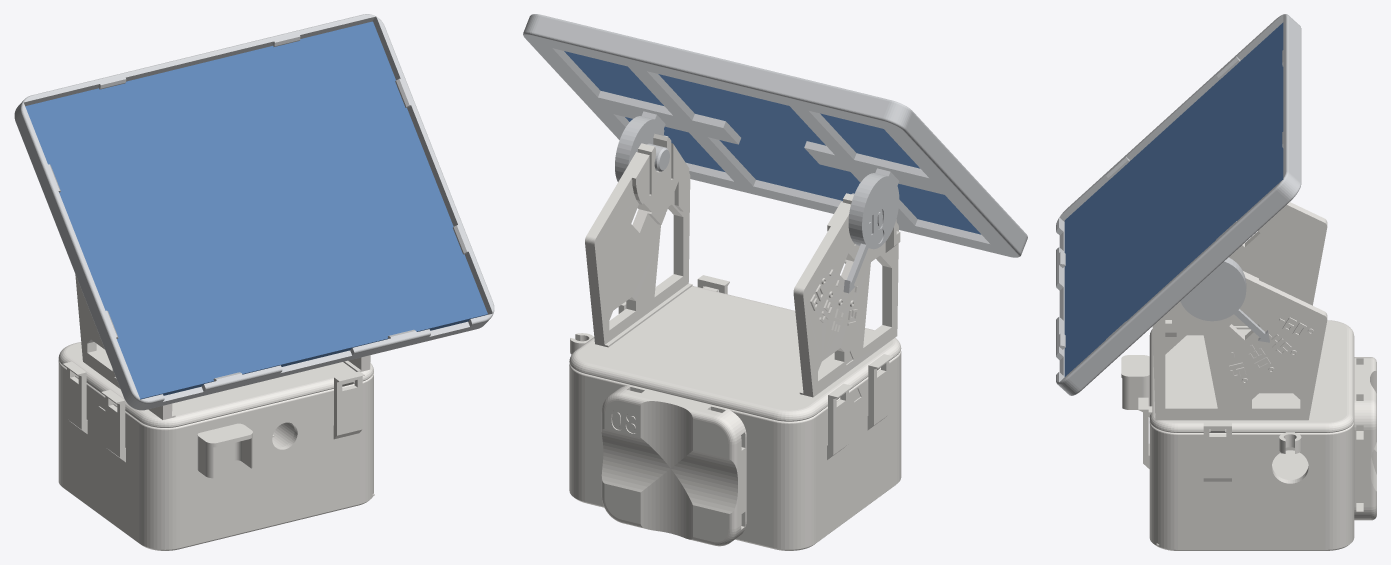
File: o13_solar.glb
The picture shows the model from 3 angles, left to right: view 1: azimuth 30°, elevation 25°; view 2: azimuth 150°, elevation 25°; view 3: azimuth 270°, elevation 25°; orthographic projection. The views are drawn at different scales.
Visible parts, largest first — view 1: Solar_panel_6V_2W, 08_outdoor_case, 10_solar_panel_frame, 09_outdoor_lid; view 2: 09_outdoor_lid, 08_outdoor_case, 10_solar_panel_frame, Solar_panel_6V_2W; view 3: Solar_panel_6V_2W, 09_outdoor_lid, 08_outdoor_case, 10_solar_panel_frame.
Boxes of the visible parts, x1,y1,x2,y2 form: Solar_panel_6V_2W: (25,21,487,399); 08_outdoor_case: (58,360,374,550); 10_solar_panel_frame: (14,14,494,410); 09_outdoor_lid: (58,274,373,427); 09_outdoor_lid: (569,133,901,421); 08_outdoor_case: (569,275,901,550); 10_solar_panel_frame: (523,14,1027,293); Solar_panel_6V_2W: (564,51,980,234); Solar_panel_6V_2W: (1064,22,1283,376); 09_outdoor_lid: (1148,202,1354,432); 08_outdoor_case: (1121,355,1376,550); 10_solar_panel_frame: (1056,14,1301,395).
Bounding box in the file's own units: 0.1416 × 0.157 × 0.113.
